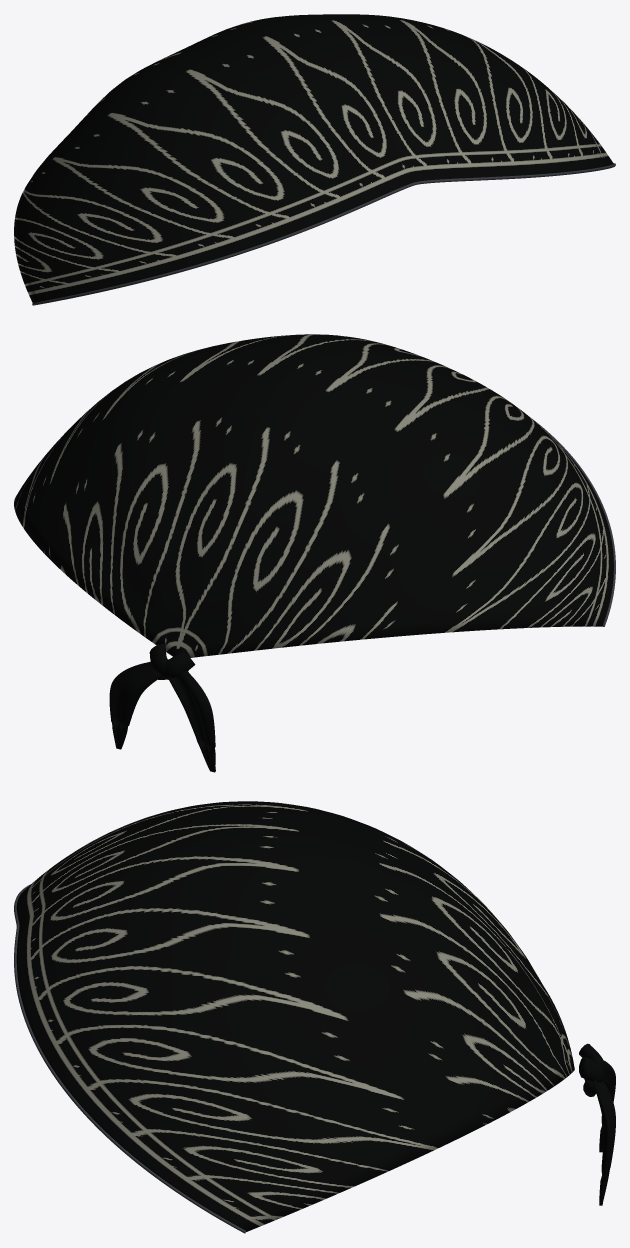
File: Feminine-side-sweep-bandana-headgear.glb
The picture shows the model from 3 angles, top to bottom: view 1: azimuth 30°, elevation 25°; view 2: azimuth 150°, elevation 25°; view 3: azimuth 270°, elevation 25°; orthographic projection. The views are drawn at different scales.
Parts seen in each view (by area): view 1: 226 headgear / Headwear / triangular bandana235, 226 headgear / Headwear / folded kerchief edge235; view 2: 226 headgear / Headwear / triangular bandana235; view 3: 226 headgear / Headwear / triangular bandana235, 226 headgear / Headwear / folded kerchief edge235.
Part boxes in pixels (<box>): 226 headgear / Headwear / triangular bandana235: <box>14,14,613,302</box>; 226 headgear / Headwear / folded kerchief edge235: <box>32,163,615,305</box>; 226 headgear / Headwear / triangular bandana235: <box>14,334,613,772</box>; 226 headgear / Headwear / triangular bandana235: <box>16,801,615,1231</box>; 226 headgear / Headwear / folded kerchief edge235: <box>14,884,246,1233</box>.
Size of the model in its own units: 0.9756 by 0.4687 by 0.7605.
2 materials, 1 textured.
